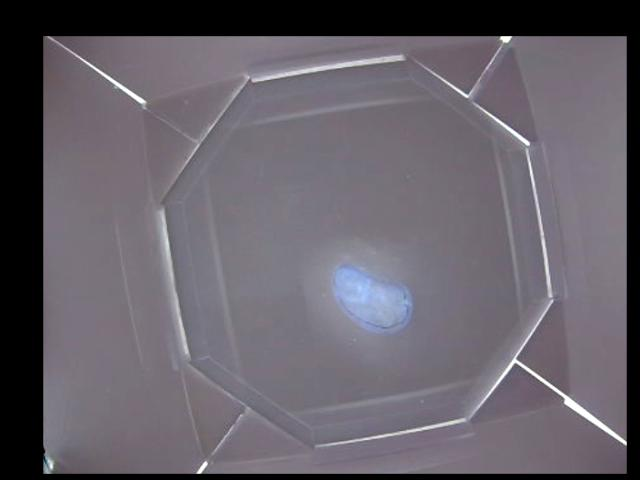Pebble: (335, 264, 417, 333)
